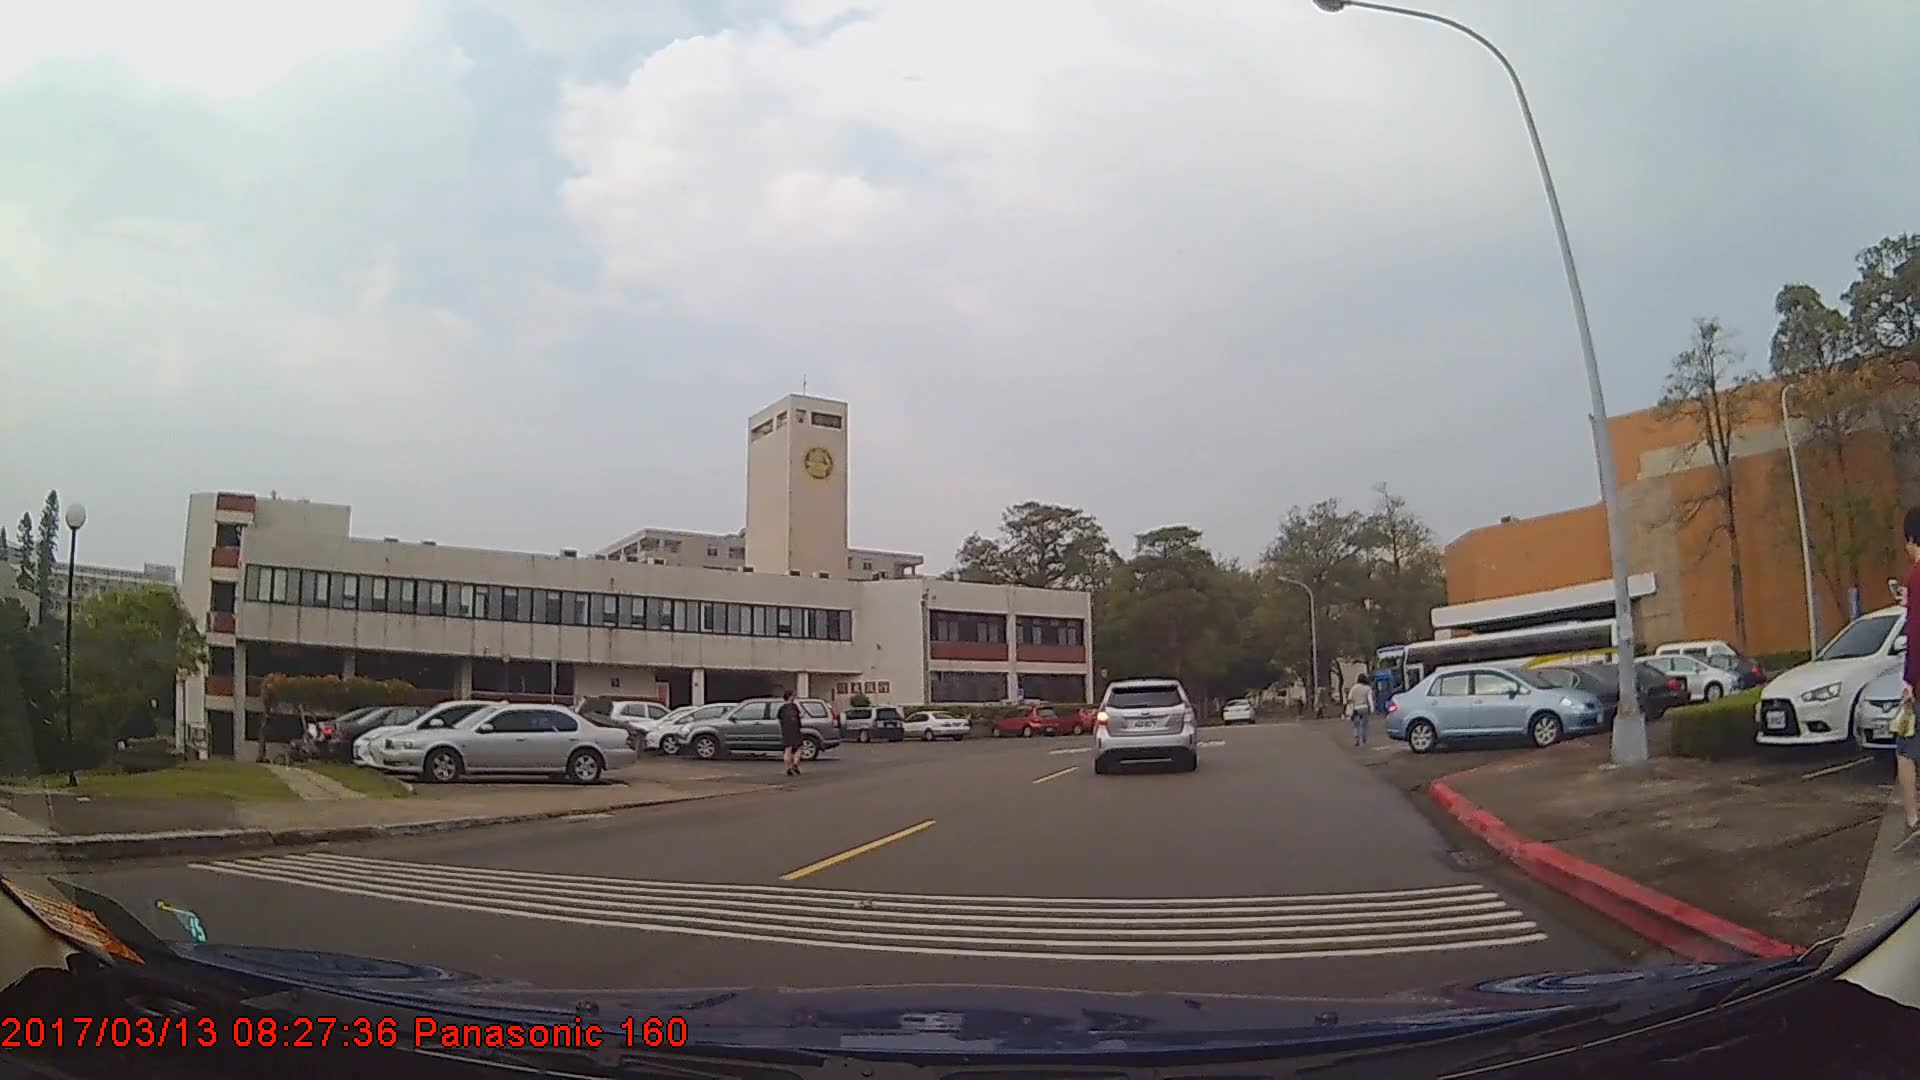pedestrian: (1884, 510, 1920, 869), (774, 691, 807, 778), (1347, 676, 1376, 748)
vehicle: (1751, 603, 1920, 745), (378, 701, 635, 783), (1384, 661, 1606, 753), (345, 697, 566, 773), (1455, 664, 1647, 730), (675, 698, 845, 763), (328, 703, 502, 766), (1095, 677, 1196, 775), (1525, 662, 1688, 717), (644, 701, 781, 757), (1624, 653, 1742, 703), (609, 700, 685, 742), (836, 705, 903, 745), (987, 704, 1059, 740), (897, 711, 968, 742), (1221, 698, 1256, 727)
